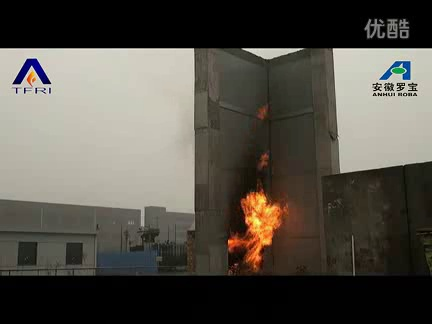fire: (228, 178, 291, 276)
